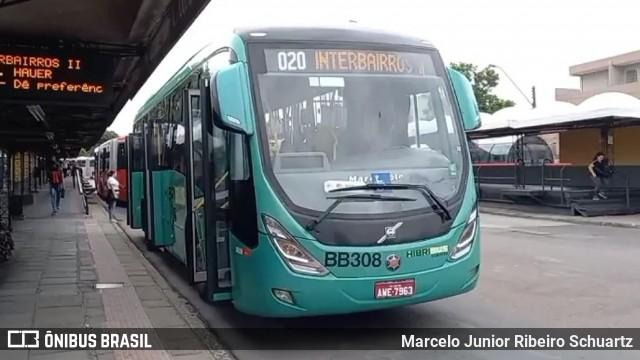INTERBAIRROS II: (310, 47, 428, 78)
